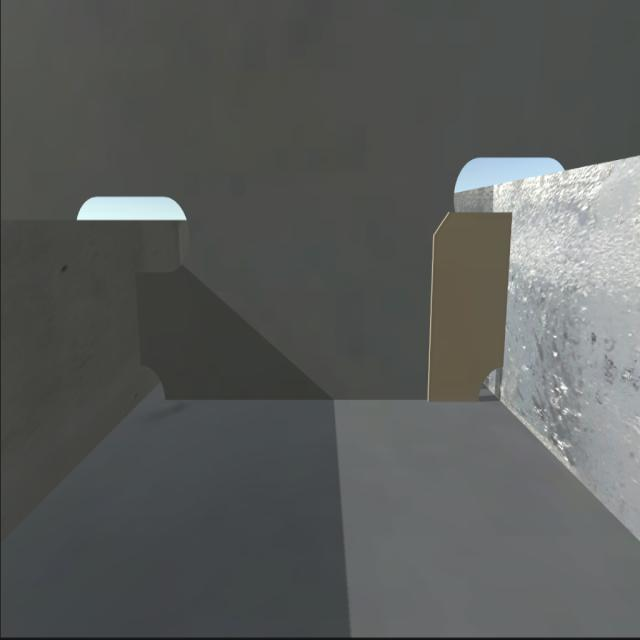fillet_hole: (136, 360, 171, 401), (474, 360, 506, 400)
fillet_yong_jeop_jang: (162, 389, 478, 410)
longi_yong_jeop_jang: (496, 209, 510, 376), (130, 272, 150, 366)
plate_CP03: (428, 208, 505, 405)
